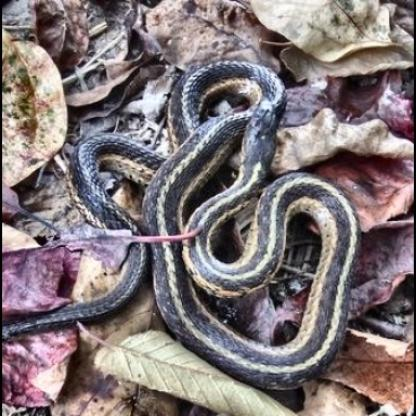Snake: (69, 58, 361, 385)
